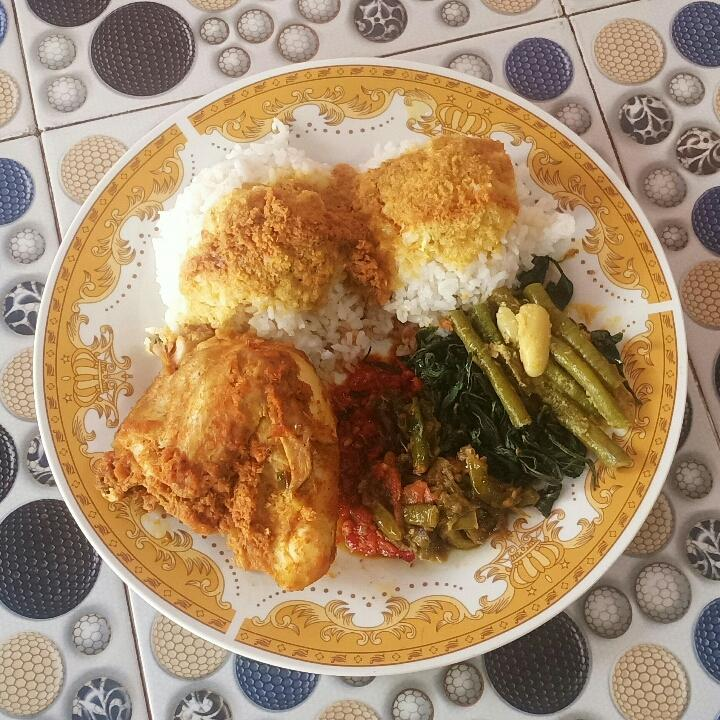buah_sayur_lainnya: (451, 338, 608, 450), (345, 401, 437, 537)
daging: (177, 373, 297, 520)
makanan_berpati: (210, 172, 472, 283)
